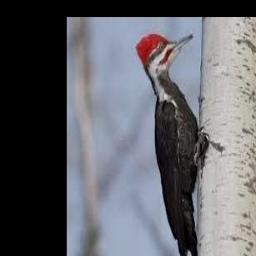Woodpecker: (136, 34, 206, 256)
